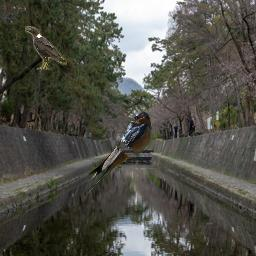Crow: (25, 26, 67, 70)
Swallow: (86, 111, 152, 195)
